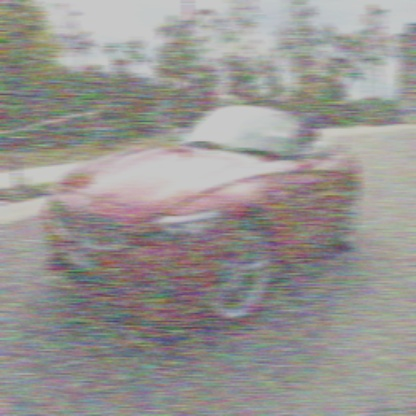Vehicle: (46, 104, 362, 331)
